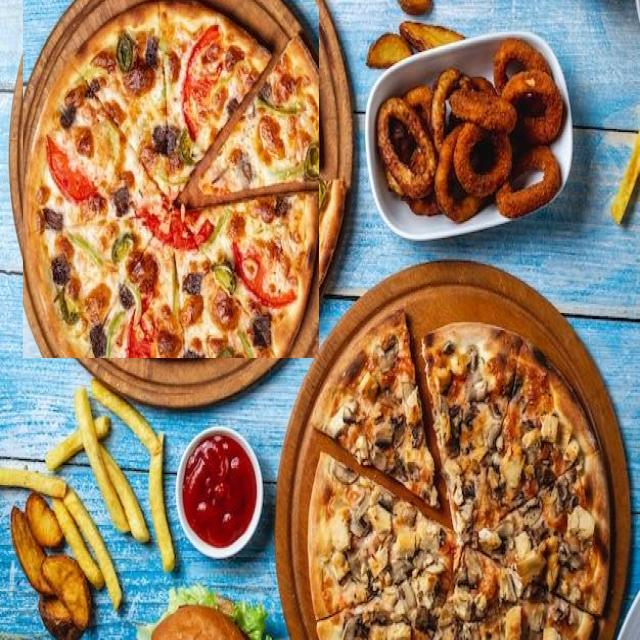pizza: (23, 0, 319, 358), (308, 322, 611, 640), (310, 308, 440, 509), (198, 163, 344, 325)
